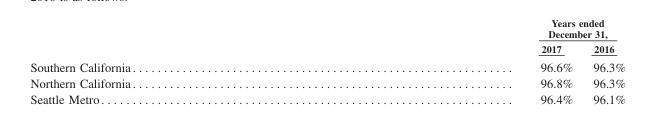table: (29, 29, 624, 105)
table column: (29, 29, 334, 105), (334, 29, 582, 105), (582, 29, 624, 105)
table column header: (29, 29, 624, 57)
table row: (29, 57, 624, 75), (29, 41, 624, 57), (29, 75, 624, 91), (29, 91, 624, 105), (29, 29, 624, 41)
table spanning cell: (334, 29, 624, 41)
